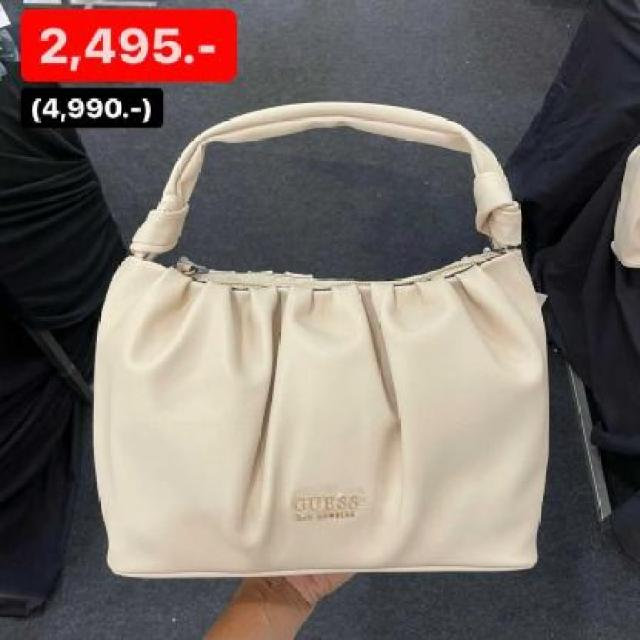Bag: (69, 100, 606, 603)
